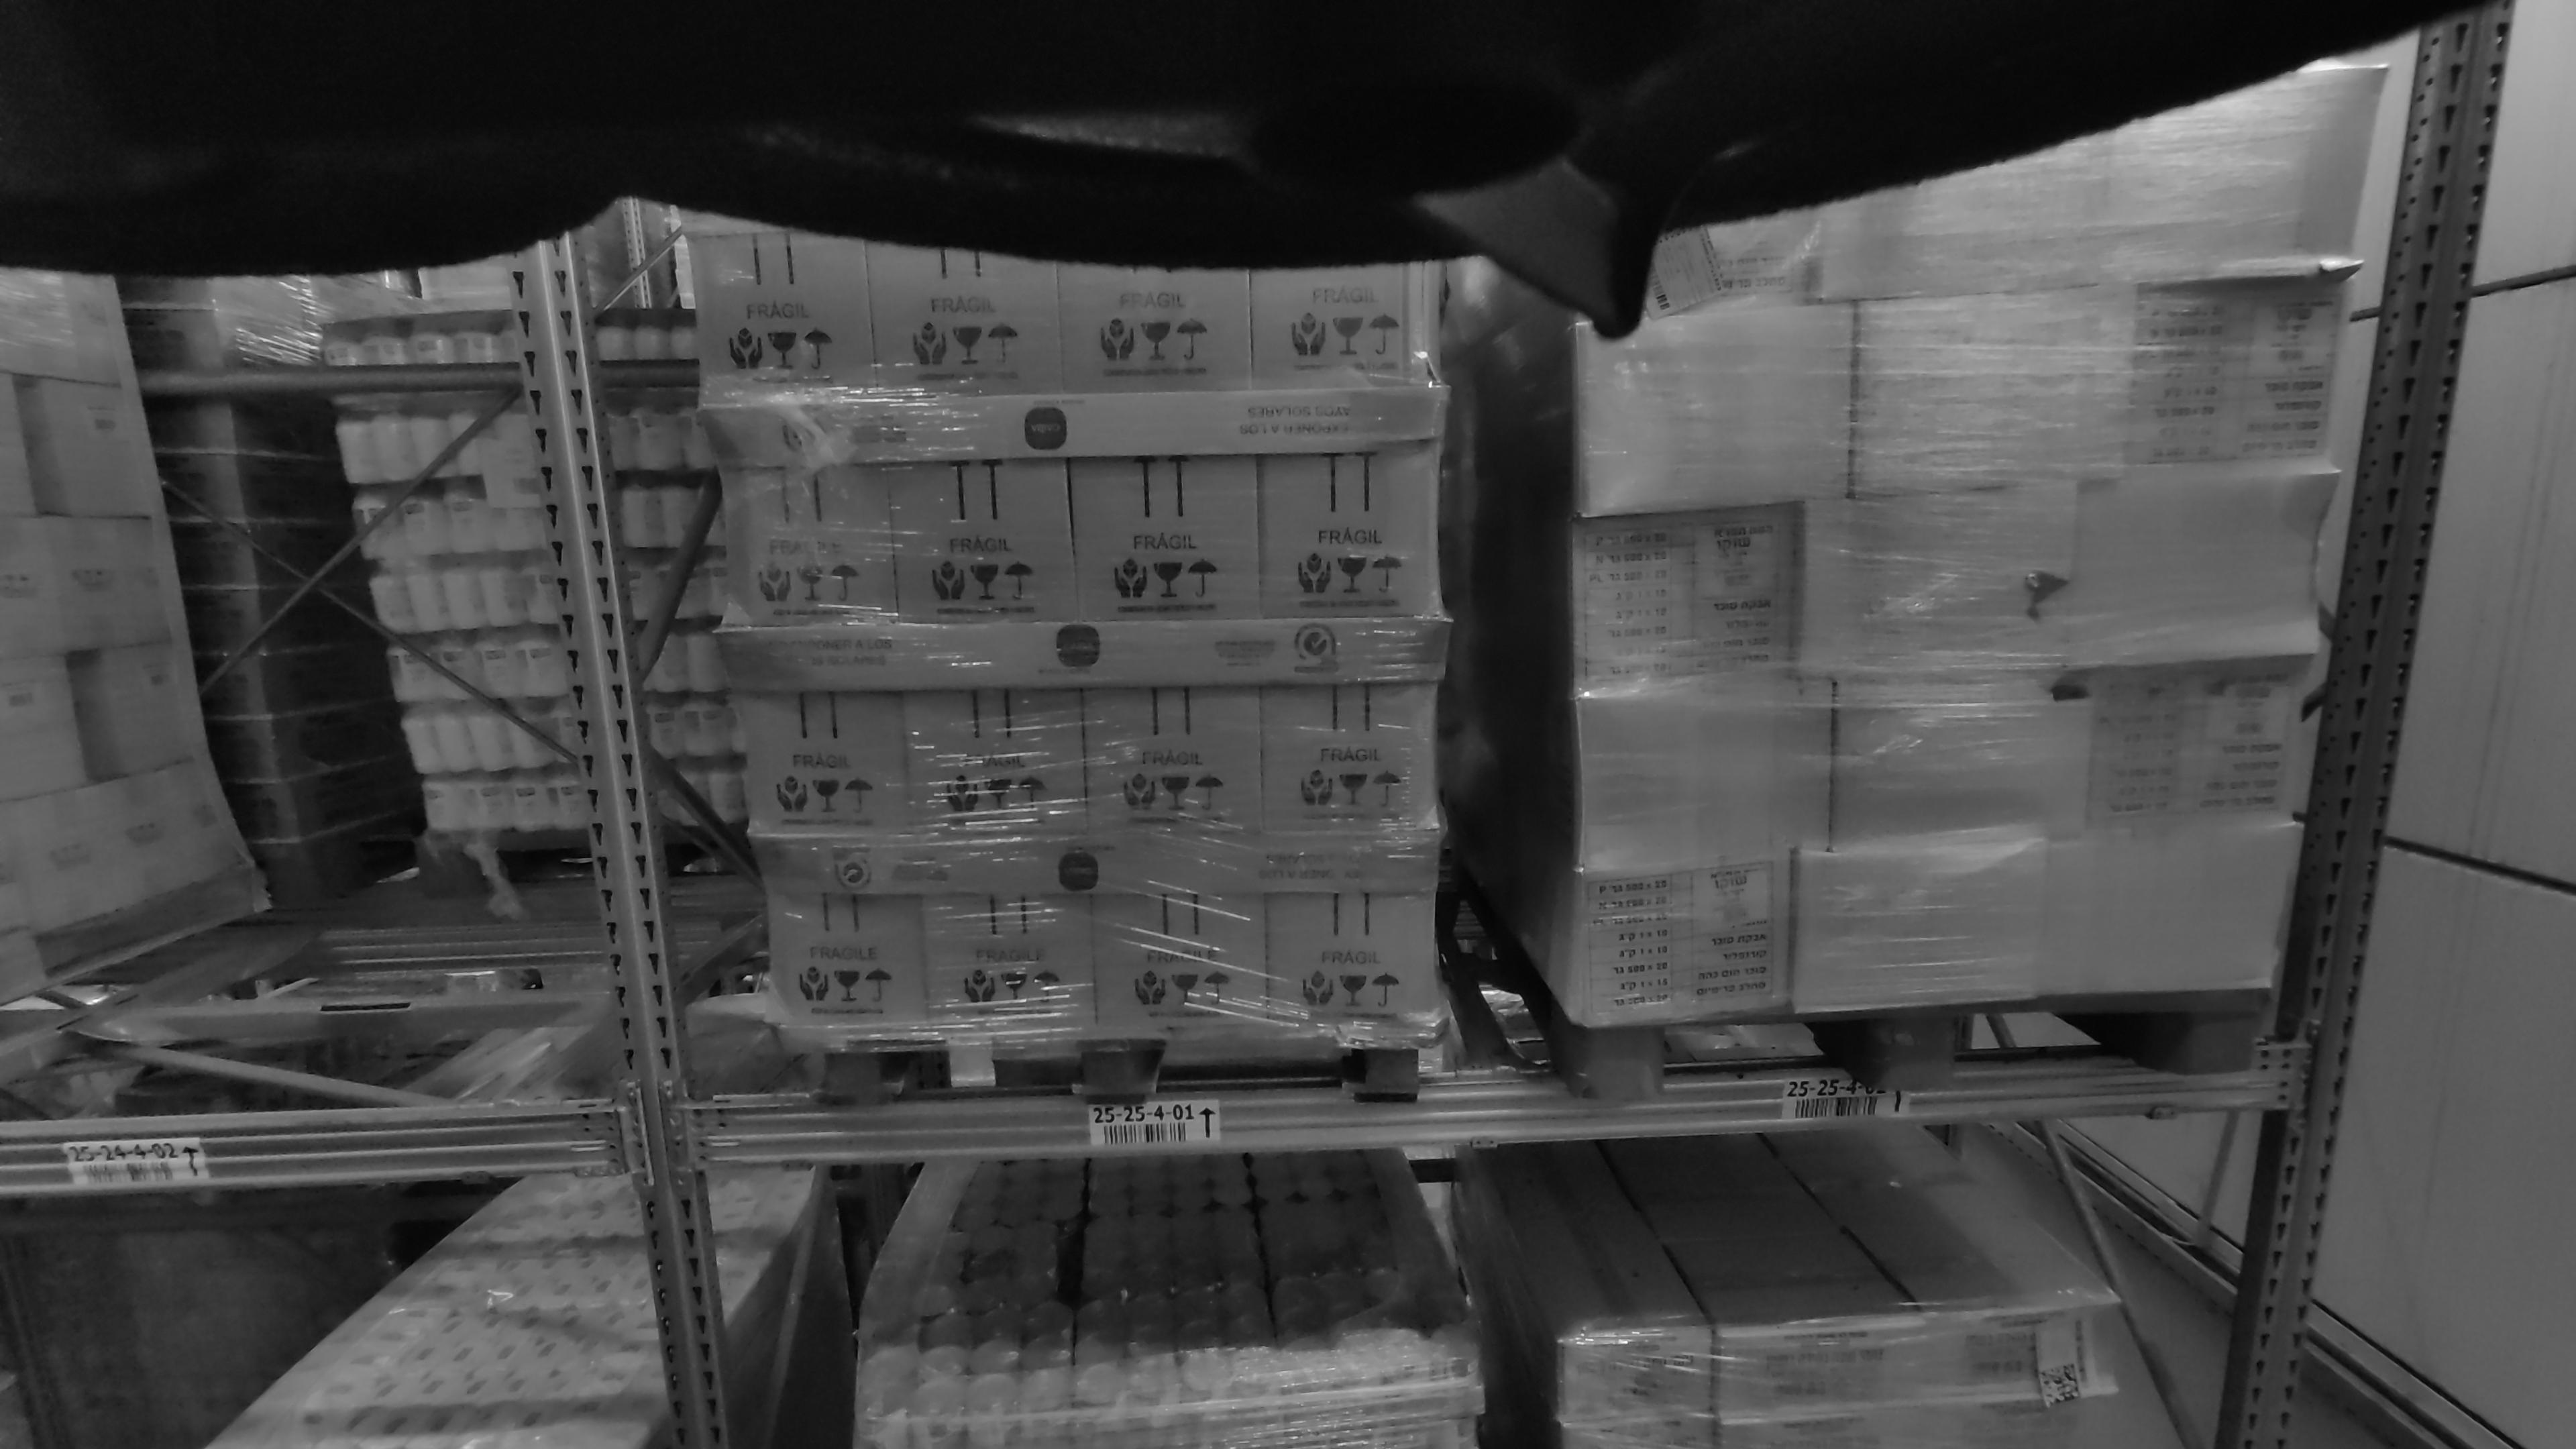empty-shelf: (0, 271, 524, 1138)
